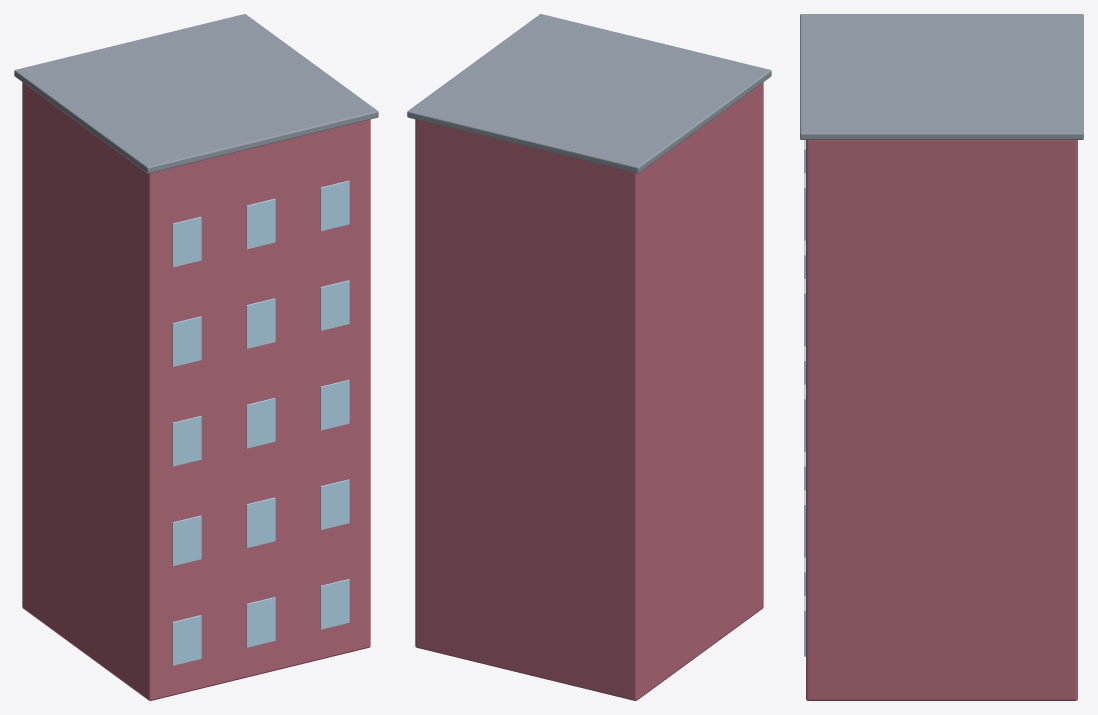
The model's file is Jumping_MidBuilding.fbx.
The picture shows the model from 3 angles, left to right: view 1: azimuth 30°, elevation 25°; view 2: azimuth 150°, elevation 25°; view 3: azimuth 270°, elevation 25°; orthographic projection. The views are drawn at different scales.
Parts seen in each view (by area): view 1: MidBuilding; view 2: MidBuilding; view 3: MidBuilding.
Part boxes in pixels (x1,y1,x2,y2): MidBuilding: (14,14,378,700); MidBuilding: (407,14,771,700); MidBuilding: (800,14,1083,700).
Size of the model in its own units: 7.3 by 16.2 by 7.3.
